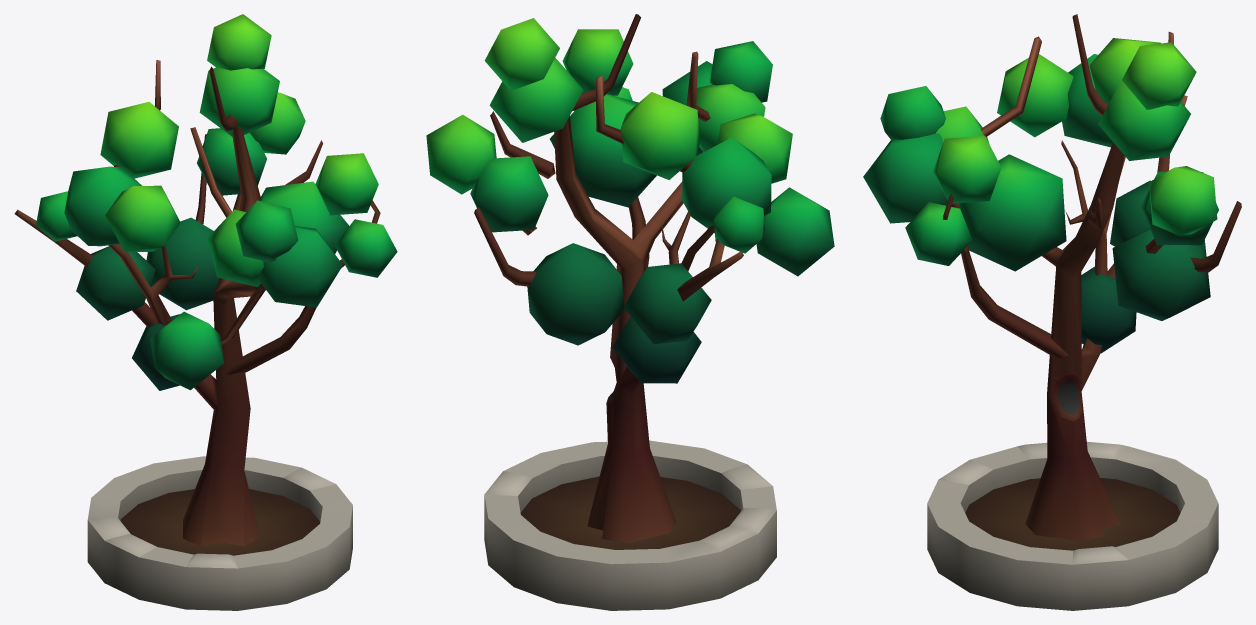
The model's file is Tree_1F.fbx.
3 renders of one model, left to right at view 1: azimuth 30°, elevation 25°; view 2: azimuth 150°, elevation 25°; view 3: azimuth 270°, elevation 25°, orthographic. The views are drawn at different scales.
Visible parts, largest first — view 1: Tree_1F; view 2: Tree_1F; view 3: Tree_1F.
Part boxes in pixels (x1,y1,x2,y2): Tree_1F: (14,14,397,610); Tree_1F: (426,14,834,610); Tree_1F: (863,14,1241,610).
Size of the model in its own units: 4.9 by 8.09 by 5.2.
